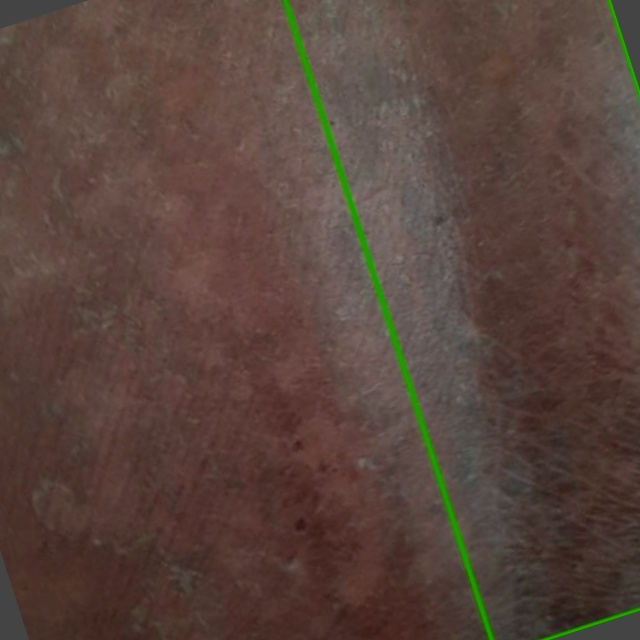Seborrheic Dermatitis: (285, 0, 639, 639)
